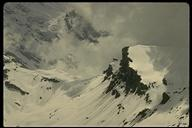snow: (4, 5, 187, 125)
